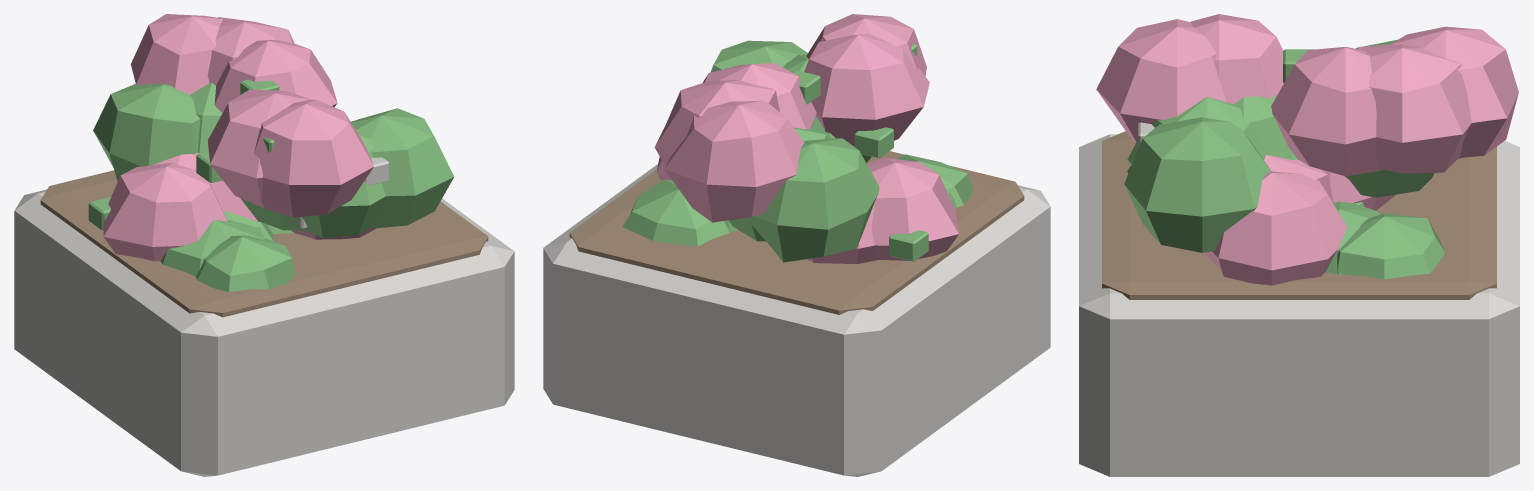
Rendered from b08_boxwood_globe.glb.
3 renders of one model, left to right at view 1: azimuth 30°, elevation 25°; view 2: azimuth 150°, elevation 25°; view 3: azimuth 270°, elevation 25°, orthographic. The views are drawn at different scales.
Parts seen in each view (by area): view 1: b08_boxwood_globe; view 2: b08_boxwood_globe; view 3: b08_boxwood_globe.
Part boxes in pixels (x1,y1,x2,y2): b08_boxwood_globe: (14,14,514,476); b08_boxwood_globe: (543,14,1050,476); b08_boxwood_globe: (1079,14,1519,476).
Bounding box in the file's own units: 1.16 × 1.06 × 1.17.
